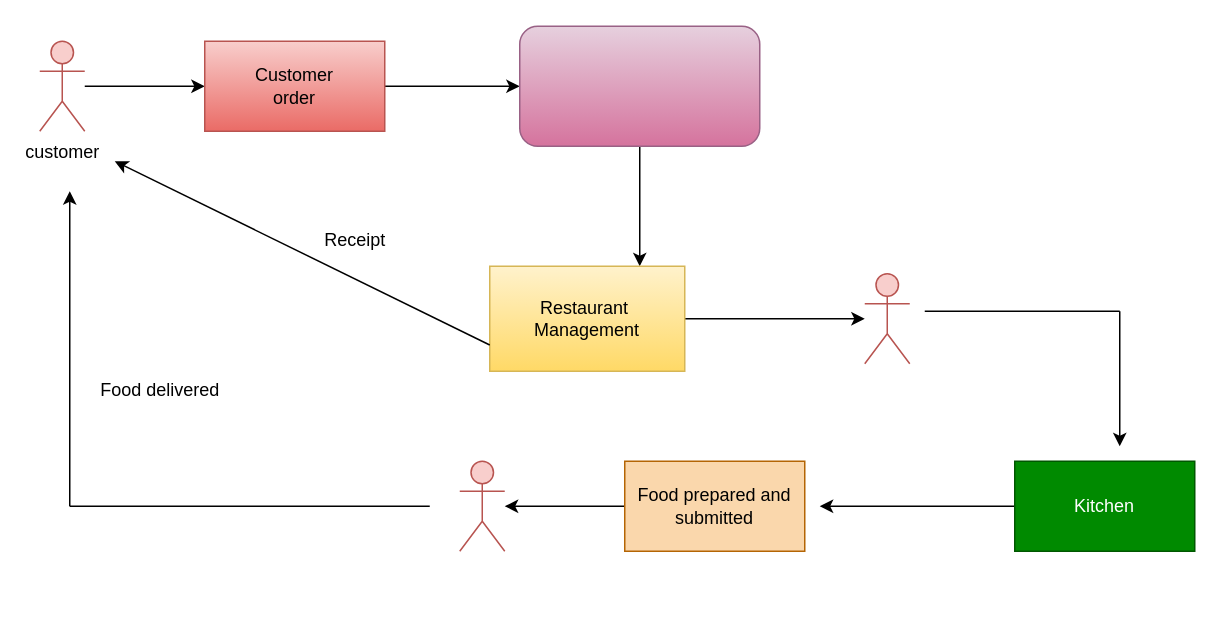
Image size: 1221x632. Some labels were removed from this diagram. Here are the shapes that lost their labels. From the top down, the centre of each, then its label:
At (639,85): "Food Ordering System".
At (886,318): "Food order".
At (481,505): "Delivery boy".
